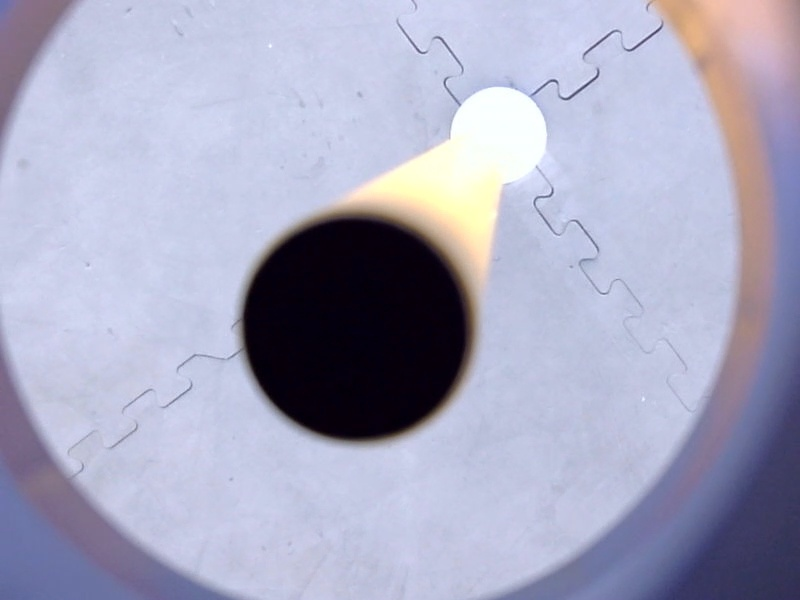tip: (225, 196, 486, 456)
